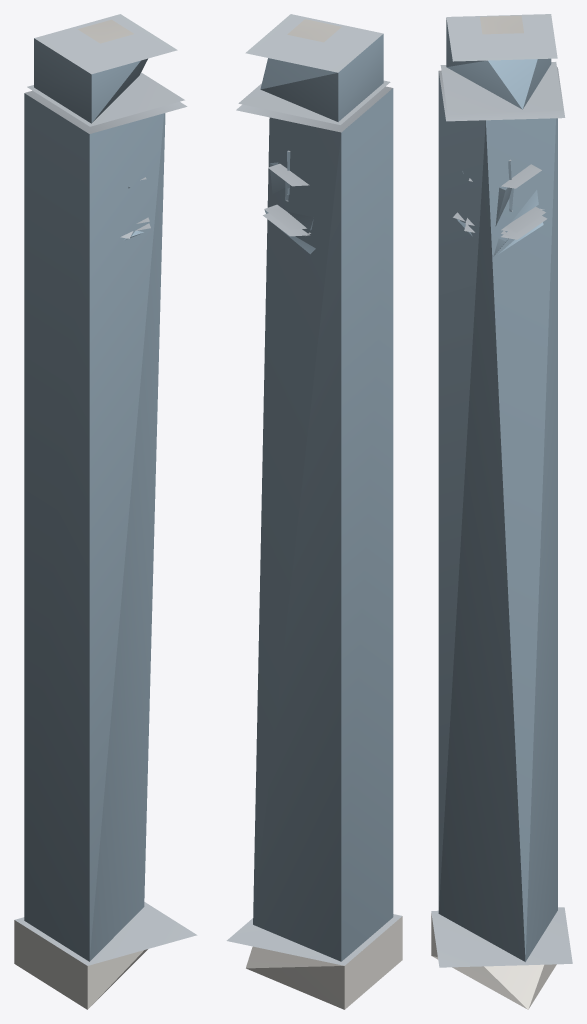
The model's file is tower_08_lod1.glb.
The picture shows the model from 3 angles, left to right: view 1: azimuth 30°, elevation 25°; view 2: azimuth 150°, elevation 25°; view 3: azimuth 270°, elevation 25°; orthographic projection.
Parts seen in each view (by area): view 1: tower_08_lod1; view 2: tower_08_lod1; view 3: tower_08_lod1.
Boxes of the visible parts, x1,y1,x2,y2 form: tower_08_lod1: (14,14,197,1009); tower_08_lod1: (226,14,402,1009); tower_08_lod1: (431,14,572,1009).
Size of the model in its own units: 40.51 by 299 by 40.1.
